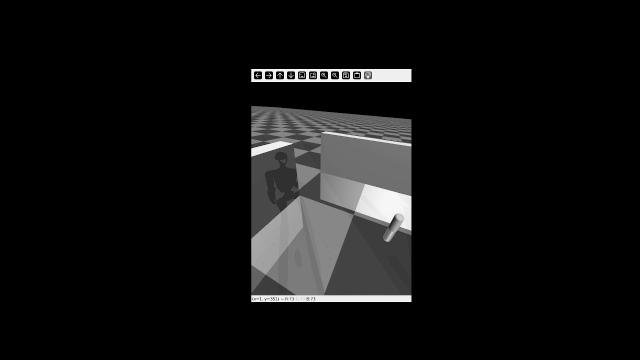cilindro: (388, 208, 407, 238)
